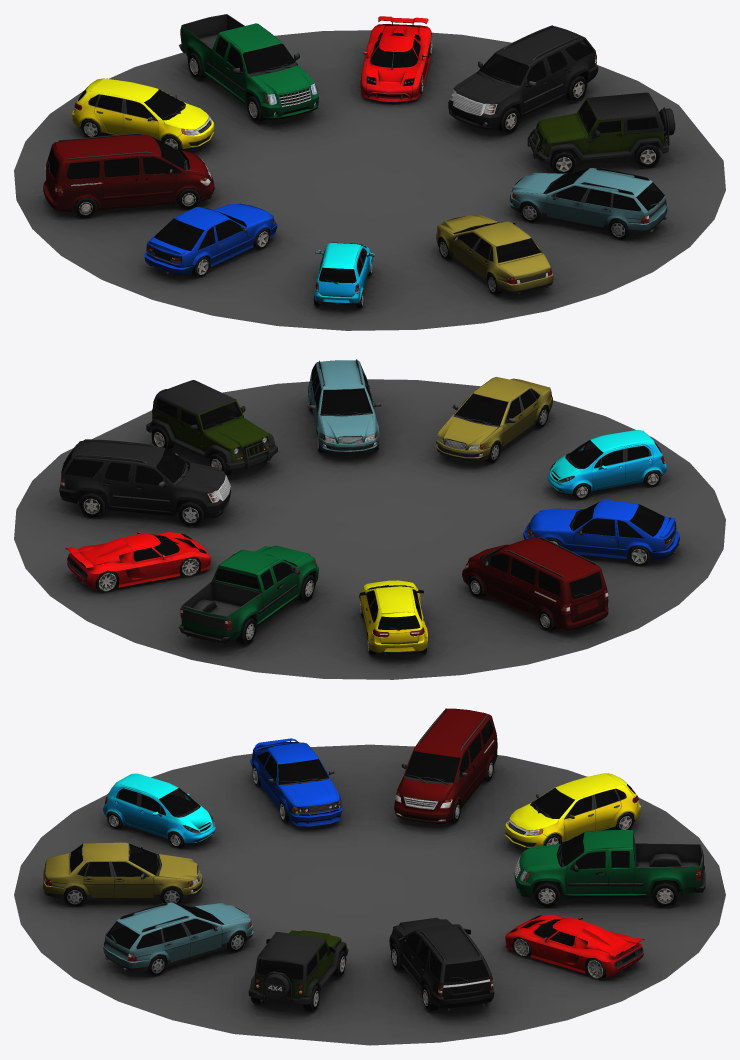
The model's file is cars.glb.
3 views of the same model, one above another, from view 1: azimuth 30°, elevation 25°; view 2: azimuth 150°, elevation 25°; view 3: azimuth 270°, elevation 25° (orthographic).
Parts seen in each view (by area): view 1: Cylinder001__0, Wheel_E_Body_0, Pickup Body_Body_0, minivan body_Body_0, Wagon Body_Body_0, Offroad Body_Body_0, Hatchback Body_Body_0, Coupe Body_Body_0, Sedan Body_Body_0, Sport body_Body_0, Compact Body_Body_0, minivan body_Glass_0 (+16 smaller); view 2: Cylinder001__0, Wheel_E_Body_0, Pickup Body_Body_0, minivan body_Body_0, Offroad Body_Body_0, Coupe Body_Body_0, Sedan Body_Body_0, Wagon Body_Body_0, Sport body_Body_0, Compact Body_Body_0, Hatchback Body_Body_0, SUV Body_Glass_0 (+15 smaller); view 3: Cylinder001__0, Pickup Body_Body_0, Sedan Body_Body_0, Wagon Body_Body_0, Wheel_E_Body_0, minivan body_Body_0, Hatchback Body_Body_0, Coupe Body_Body_0, Offroad Body_Body_0, Sport body_Body_0, Compact Body_Body_0, minivan body_Glass_0 (+12 smaller).
Boxes of the visible parts, <box> form: Cylinder001__0: <box>14,30,725,330</box>; Wheel_E_Body_0: <box>448,25,598,129</box>; Pickup Body_Body_0: <box>179,14,318,120</box>; minivan body_Body_0: <box>43,133,214,211</box>; Wagon Body_Body_0: <box>509,167,667,233</box>; Offroad Body_Body_0: <box>527,92,675,163</box>; Hatchback Body_Body_0: <box>72,78,214,149</box>; Coupe Body_Body_0: <box>144,203,277,275</box>; Sedan Body_Body_0: <box>436,215,553,294</box>; Sport body_Body_0: <box>361,16,431,101</box>; Compact Body_Body_0: <box>314,243,374,305</box>; minivan body_Glass_0: <box>47,137,185,179</box>; Cylinder001__0: <box>14,379,725,679</box>; Wheel_E_Body_0: <box>59,439,230,521</box>; Pickup Body_Body_0: <box>179,545,318,644</box>; minivan body_Body_0: <box>462,537,608,630</box>; Offroad Body_Body_0: <box>146,380,277,470</box>; Coupe Body_Body_0: <box>523,500,679,559</box>; Sedan Body_Body_0: <box>436,377,552,461</box>; Wagon Body_Body_0: <box>307,359,381,453</box>; Sport body_Body_0: <box>65,531,210,589</box>; Compact Body_Body_0: <box>547,430,666,494</box>; Hatchback Body_Body_0: <box>359,580,427,654</box>; SUV Body_Glass_0: <box>61,444,186,485</box>; Cylinder001__0: <box>14,744,725,1045</box>; Pickup Body_Body_0: <box>514,830,705,898</box>; Sedan Body_Body_0: <box>43,842,202,900</box>; Wagon Body_Body_0: <box>103,902,253,971</box>; Wheel_E_Body_0: <box>389,917,494,1011</box>; minivan body_Body_0: <box>394,708,497,823</box>; Hatchback Body_Body_0: <box>504,773,640,848</box>; Coupe Body_Body_0: <box>250,738,342,826</box>; Offroad Body_Body_0: <box>248,930,348,1005</box>; Sport body_Body_0: <box>505,914,644,977</box>; Compact Body_Body_0: <box>102,773,215,844</box>; minivan body_Glass_0: <box>405,720,493,782</box>.
Bounding box in the file's own units: 19.27 × 1.75 × 19.27.
Materials: 31 (21 with a texture image).
